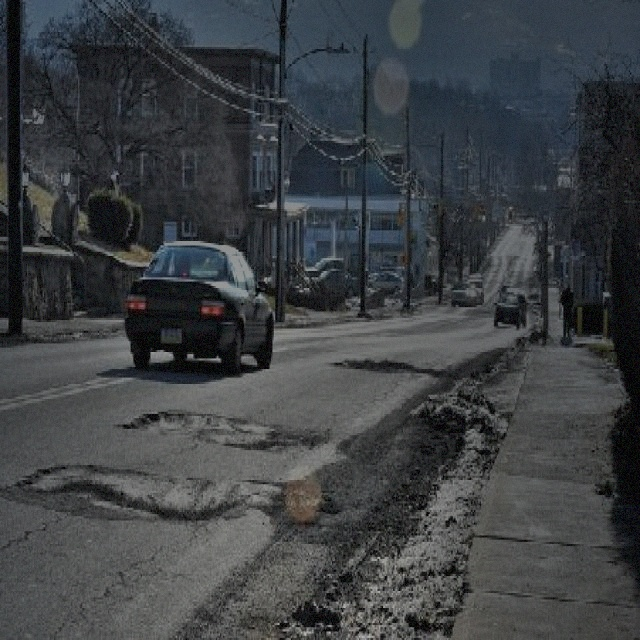pothole: (4, 458, 243, 520), (116, 408, 281, 452), (329, 356, 420, 374)
